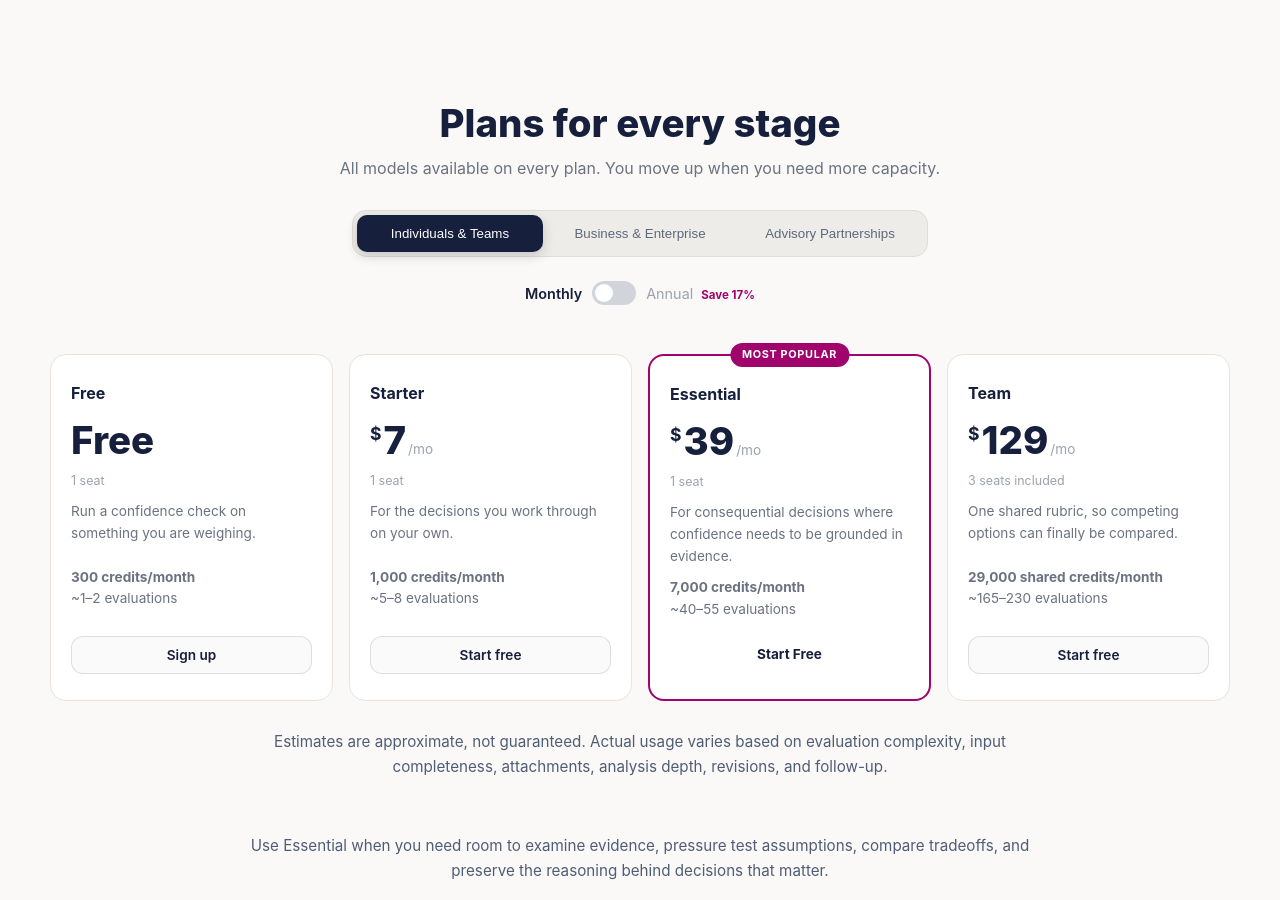
Test: PricingVariantB › shows credits and approximate project value on every pricing card
Expected: the text "300 credits/month" is shown, [71,569,195,585]
Expected: the text "~1–2 evaluations" is shown, [71,590,177,606]
Click the tab "Business & Enterprise" at (640, 233), box [547,215,733,252]
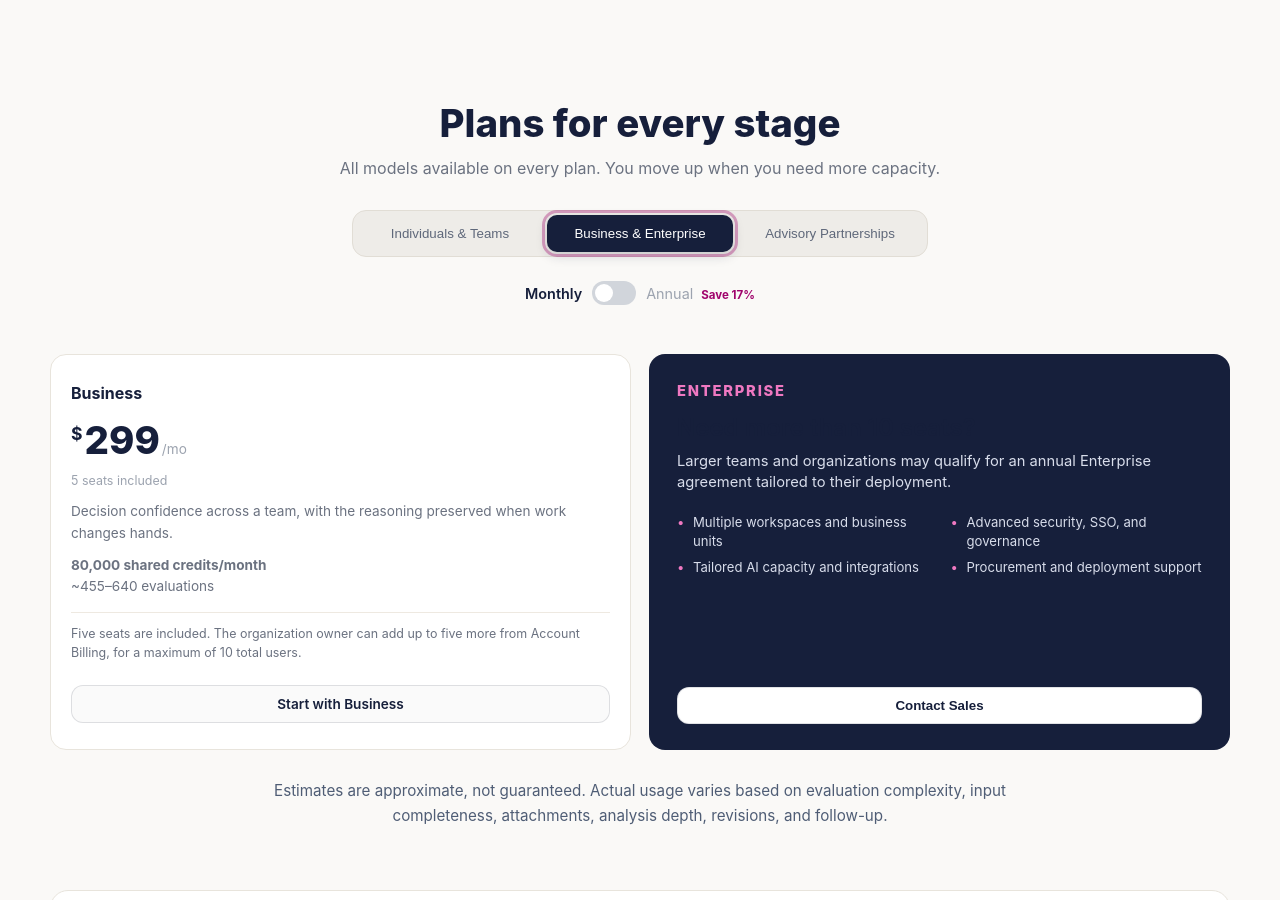
Now the text "80,000 shared credits/month" is shown, box [71,557,266,573]
Now the text "~455–640 evaluations" is shown, box [71,578,214,594]
